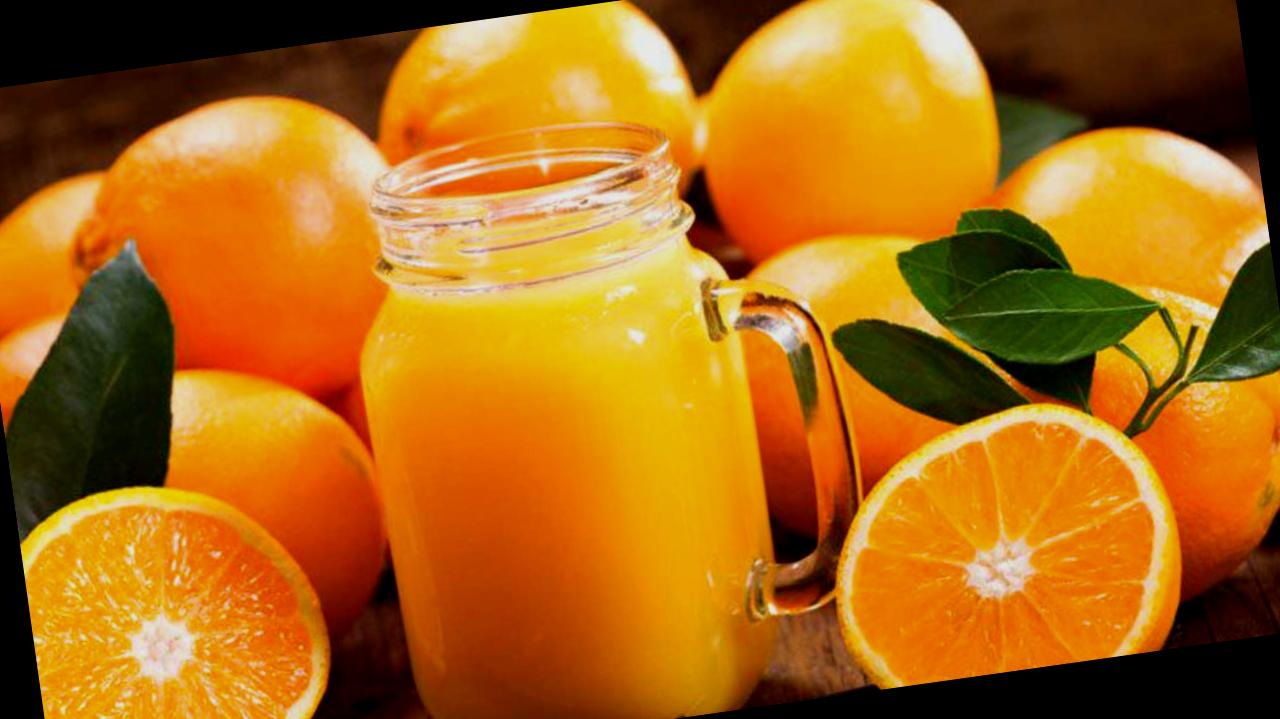Orange Ripe: (0, 46, 476, 433), (783, 354, 1280, 697), (659, 0, 1067, 358), (7, 400, 359, 719)
